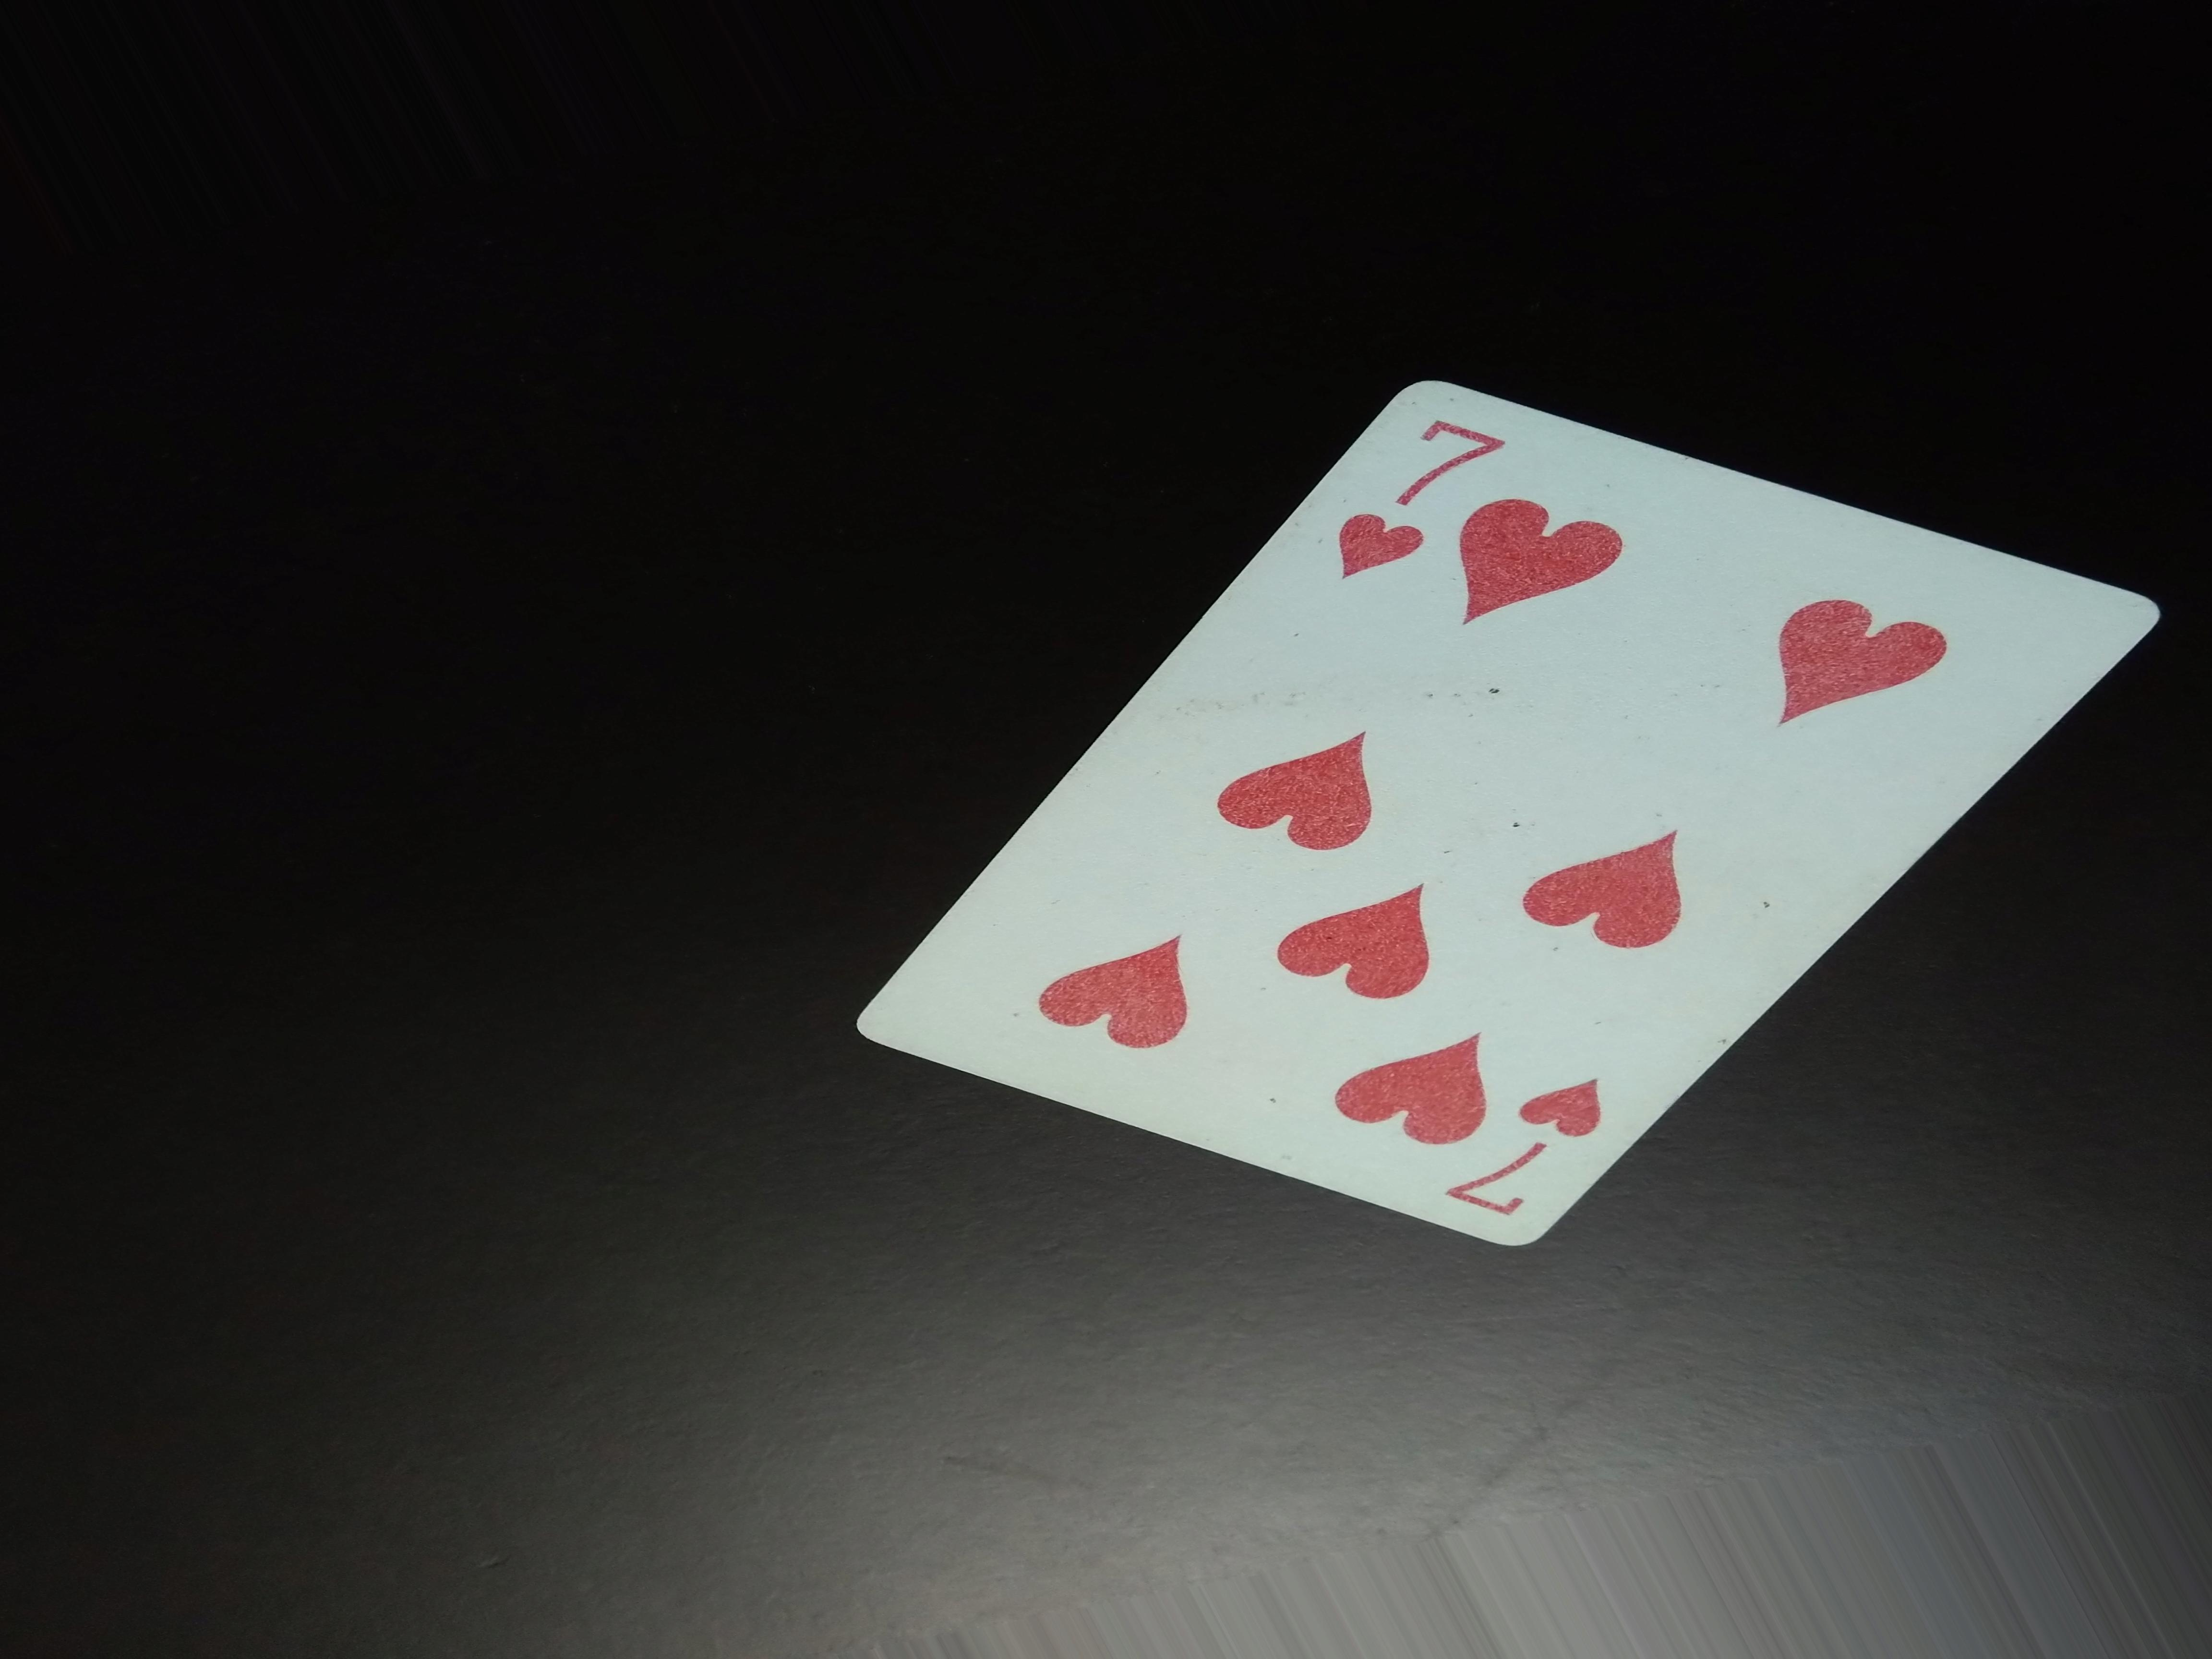7H: (1325, 399, 1510, 610)
